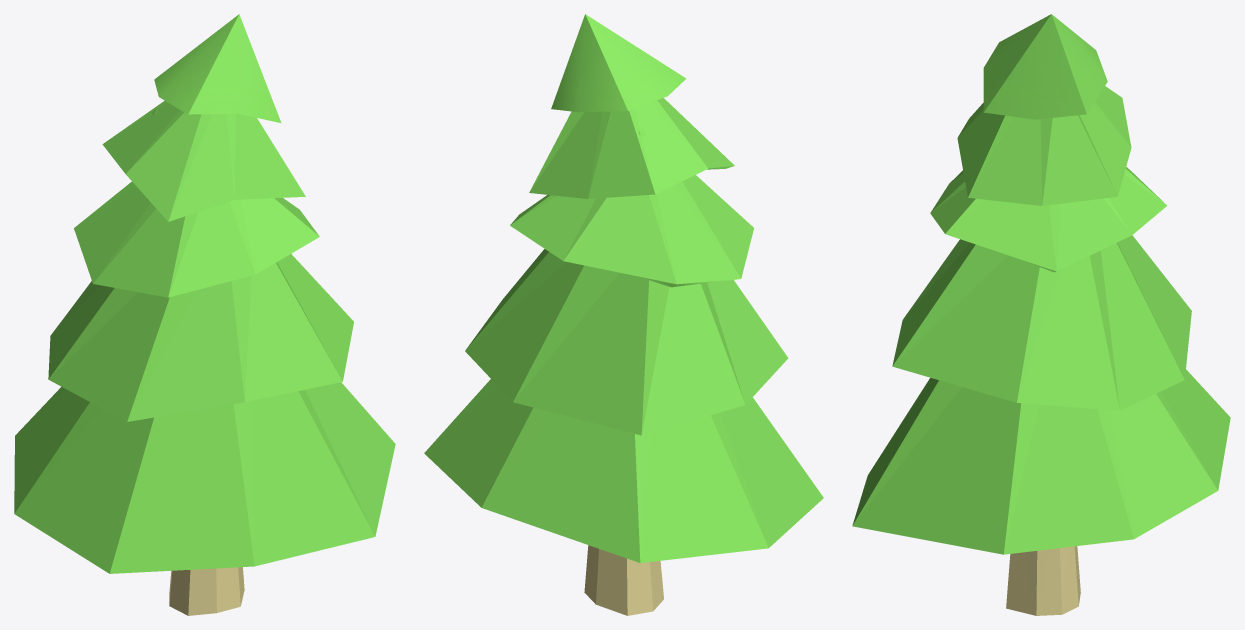
File: sapin2vert.FBX
3 views of the same model, side by side, from view 1: azimuth 30°, elevation 25°; view 2: azimuth 150°, elevation 25°; view 3: azimuth 270°, elevation 25° (orthographic). The views are drawn at different scales.
Visible parts, largest first — view 1: Pyramid001; view 2: Pyramid001; view 3: Pyramid001.
Part boxes in pixels (x1,y1,x2,y2): Pyramid001: (14,14,395,615); Pyramid001: (424,14,823,615); Pyramid001: (852,14,1230,615).
Bounding box in the file's own units: 78.9 × 129 × 72.47.
